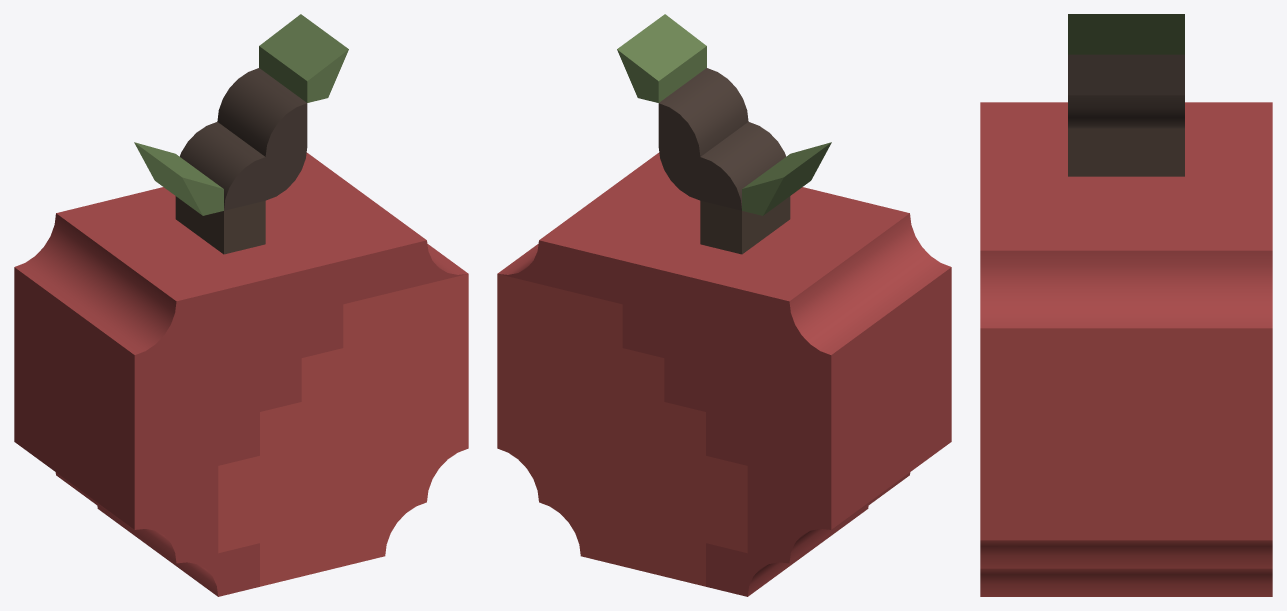
The model's file is apple.glb.
The picture shows the model from 3 angles, left to right: view 1: azimuth 30°, elevation 25°; view 2: azimuth 150°, elevation 25°; view 3: azimuth 270°, elevation 25°; orthographic projection. The views are drawn at different scales.
Parts seen in each view (by area): view 1: generated(Clone); view 2: generated(Clone); view 3: generated(Clone).
Part boxes in pixels (left/top/right/bottom): generated(Clone): left=14, top=14, right=468, bottom=596; generated(Clone): left=497, top=14, right=951, bottom=596; generated(Clone): left=980, top=14, right=1272, bottom=596.
Size of the model in its own units: 4 by 5.5 by 2.5.
